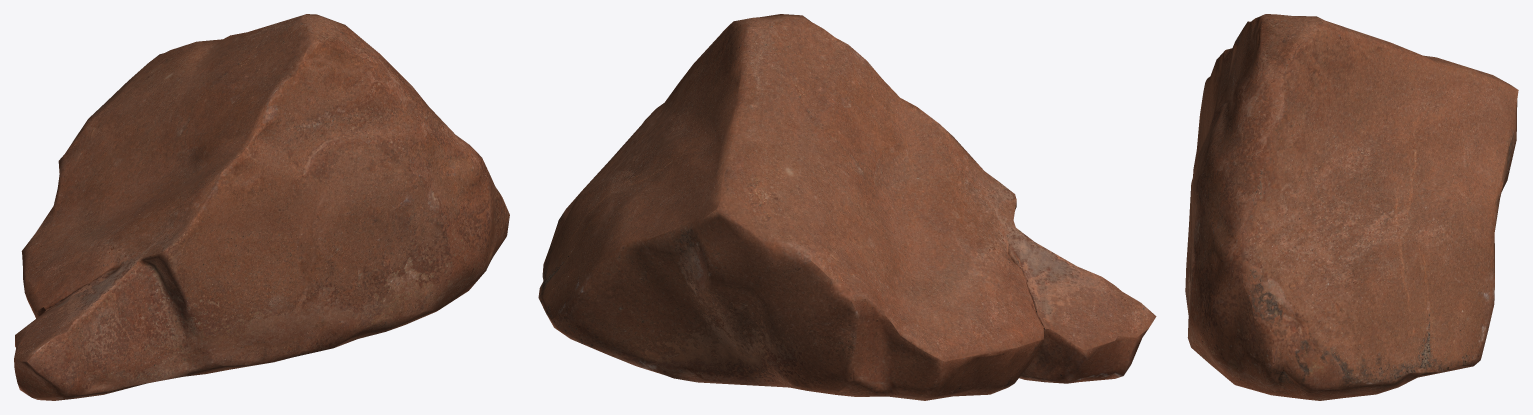
The model's file is SM_Rock_09.fbx.
3 views of the same model, side by side, from view 1: azimuth 30°, elevation 25°; view 2: azimuth 150°, elevation 25°; view 3: azimuth 270°, elevation 25° (orthographic). The views are drawn at different scales.
Parts seen in each view (by area): view 1: SM_Rock_09_LOD0; view 2: SM_Rock_09_LOD0; view 3: SM_Rock_09_LOD0.
Part boxes in pixels (x1,y1,x2,y2): SM_Rock_09_LOD0: (14, 14, 509, 400); SM_Rock_09_LOD0: (538, 14, 1156, 400); SM_Rock_09_LOD0: (1185, 14, 1518, 400).
Bounding box in the file's own units: 15.21 × 7.84 × 8.36.
1 material, 1 textured.
